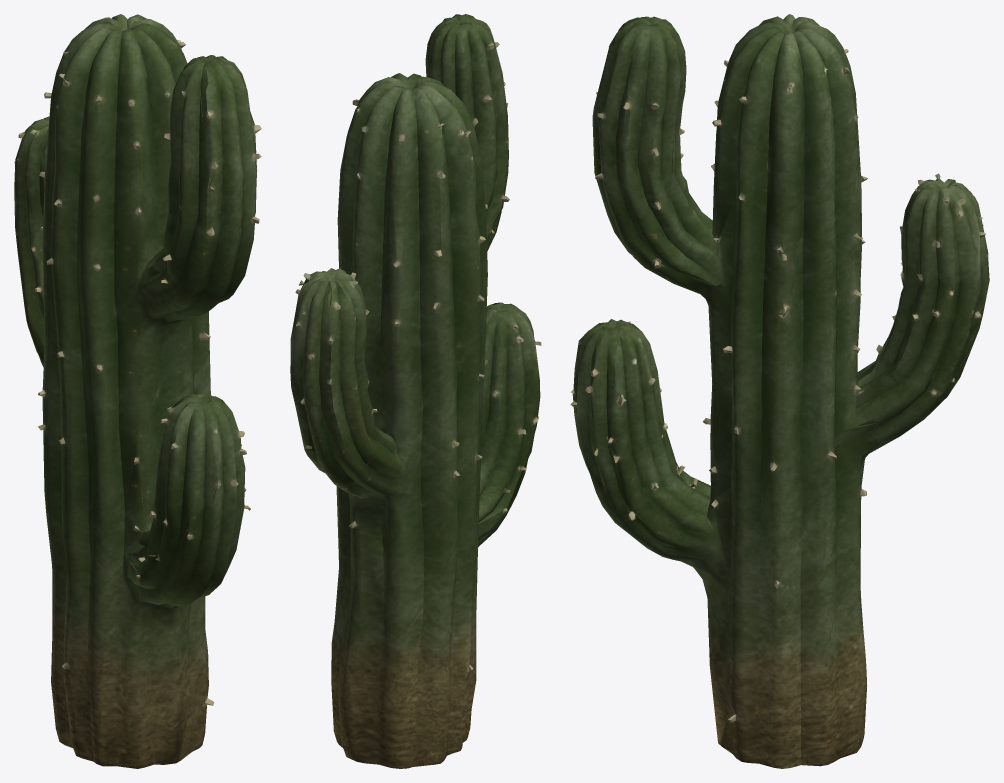
The picture shows the model from 3 angles, left to right: view 1: azimuth 30°, elevation 25°; view 2: azimuth 150°, elevation 25°; view 3: azimuth 270°, elevation 25°; orthographic projection. The views are drawn at different scales.
Parts seen in each view (by area): view 1: desert-cactus; view 2: desert-cactus; view 3: desert-cactus.
Part boxes in pixels (x1,y1,x2,y2): desert-cactus: [14, 14, 261, 768]; desert-cactus: [290, 14, 541, 768]; desert-cactus: [570, 14, 989, 768].
Bounding box in the file's own units: 0.5343 × 2.4 × 1.26.
Materials: 1 (1 with a texture image).
